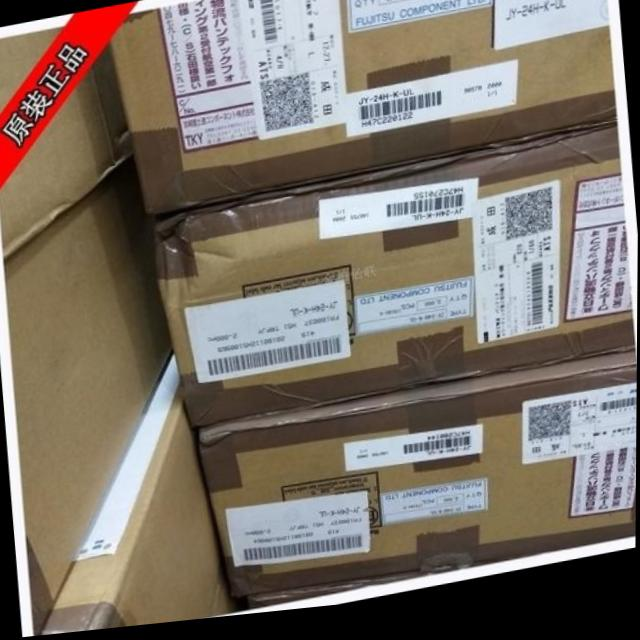box: (145, 137, 633, 431), (191, 361, 637, 617), (110, 0, 616, 220), (1, 157, 172, 637), (44, 354, 236, 636), (0, 43, 135, 260), (0, 29, 64, 113)
